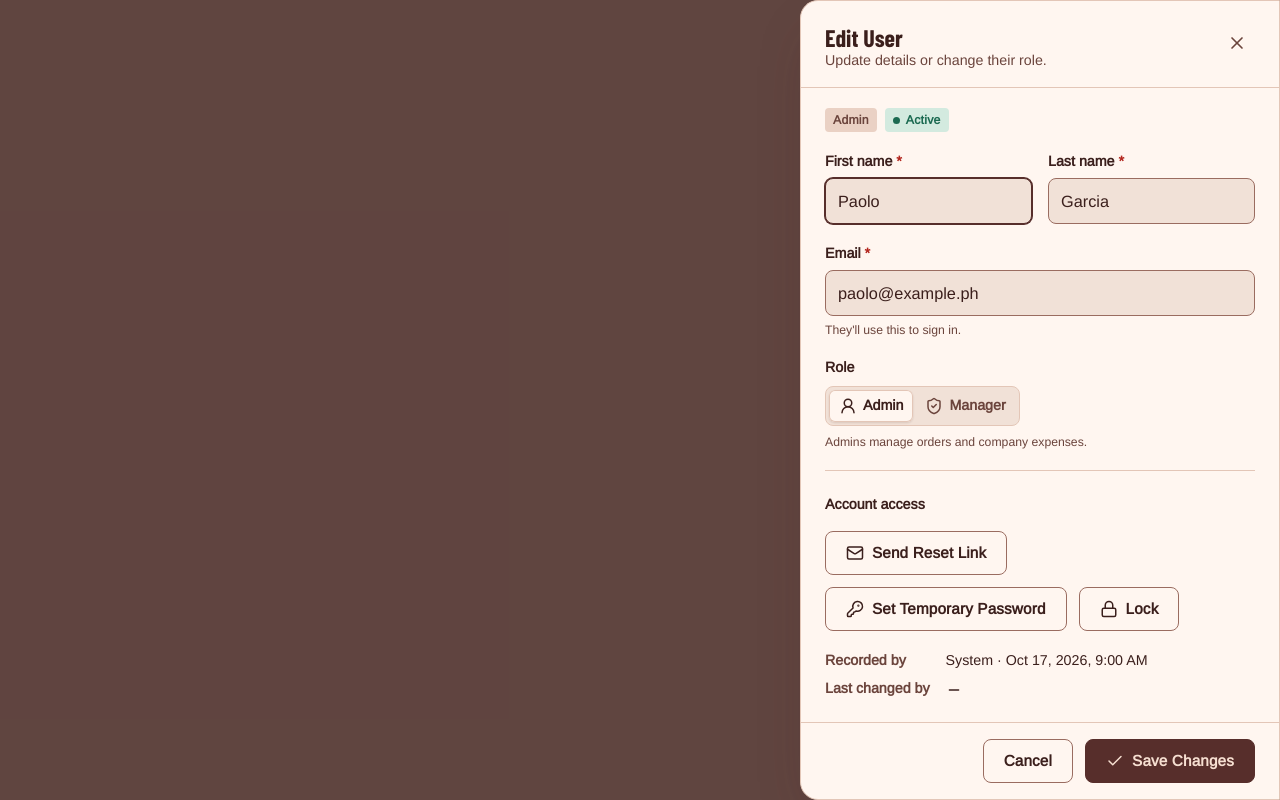
Test case: U3 changing the role (USER-05) › shows the sign-out note while Role differs from the saved role, and hides it again when it matches
The width and height of the screenshot is (1280, 800).
Expected: the field labelled "First name *" holds "Paolo", 826,179 -> 1031,223
Click the radio button labelled "Manager". click: [966, 406]
box: 915,390 -> 1016,422
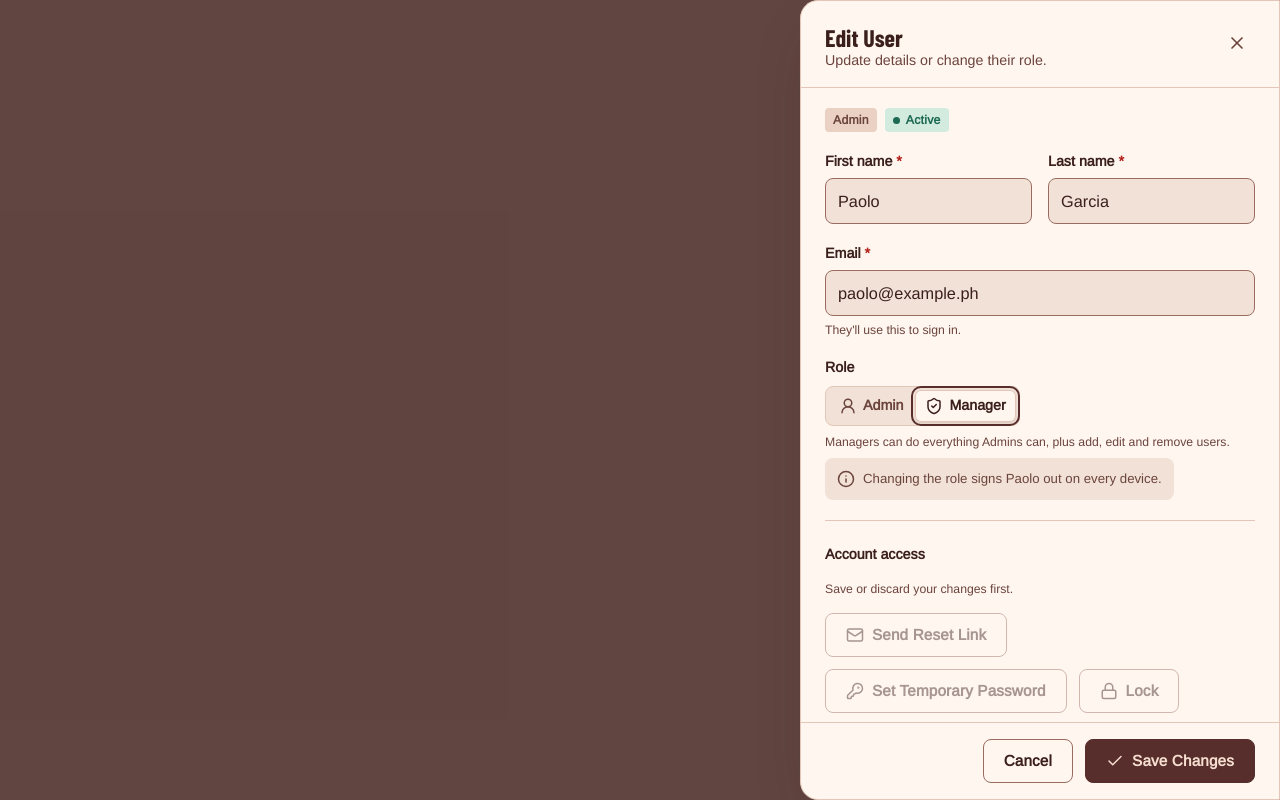
Expected: the text "Changing the role signs Paolo out on every device." is shown, 863,470 -> 1162,488
Expected: the text "Managers can do everything Admins can, plus add, edit and remove users." is shown, 825,434 -> 1230,450
Click the radio button labelled "Admin". click: [871, 406]
box: 829,390 -> 913,422
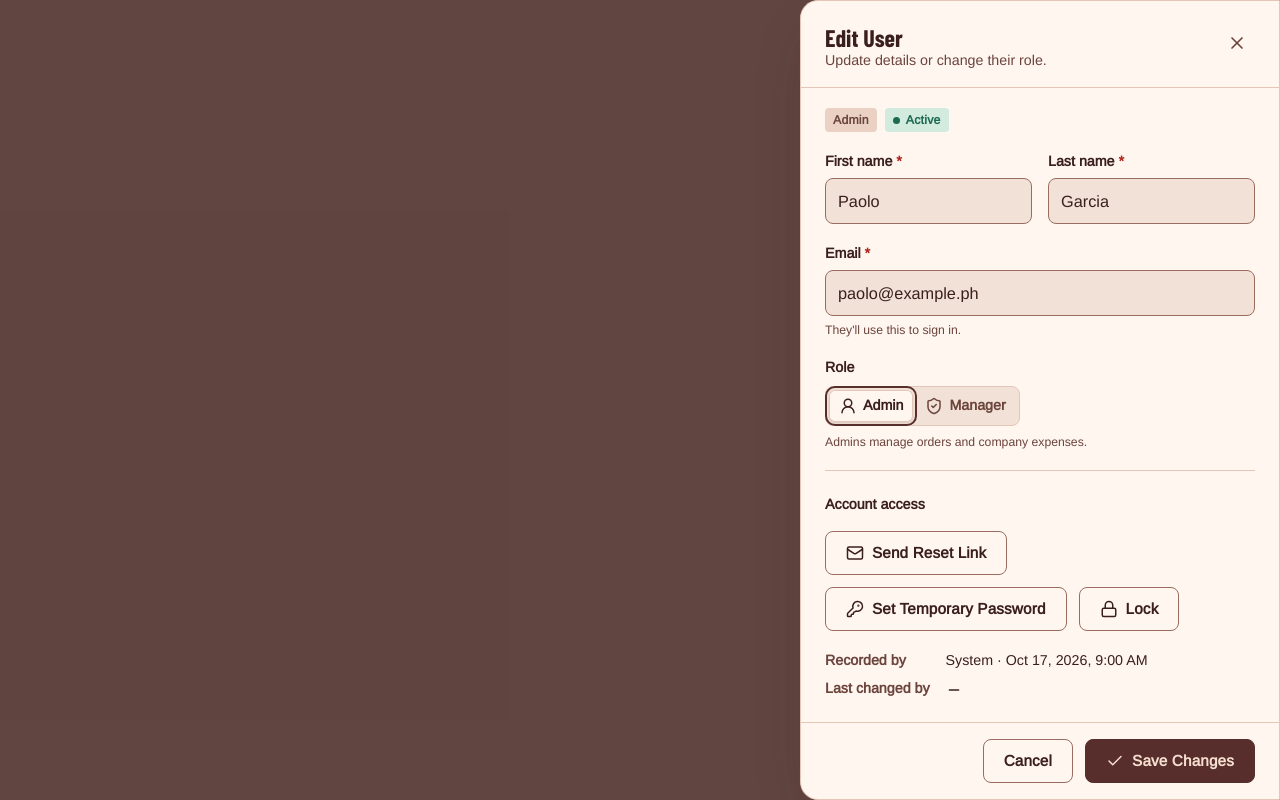
Expected: the text "Changing the role signs Paolo out on every device." is gone
